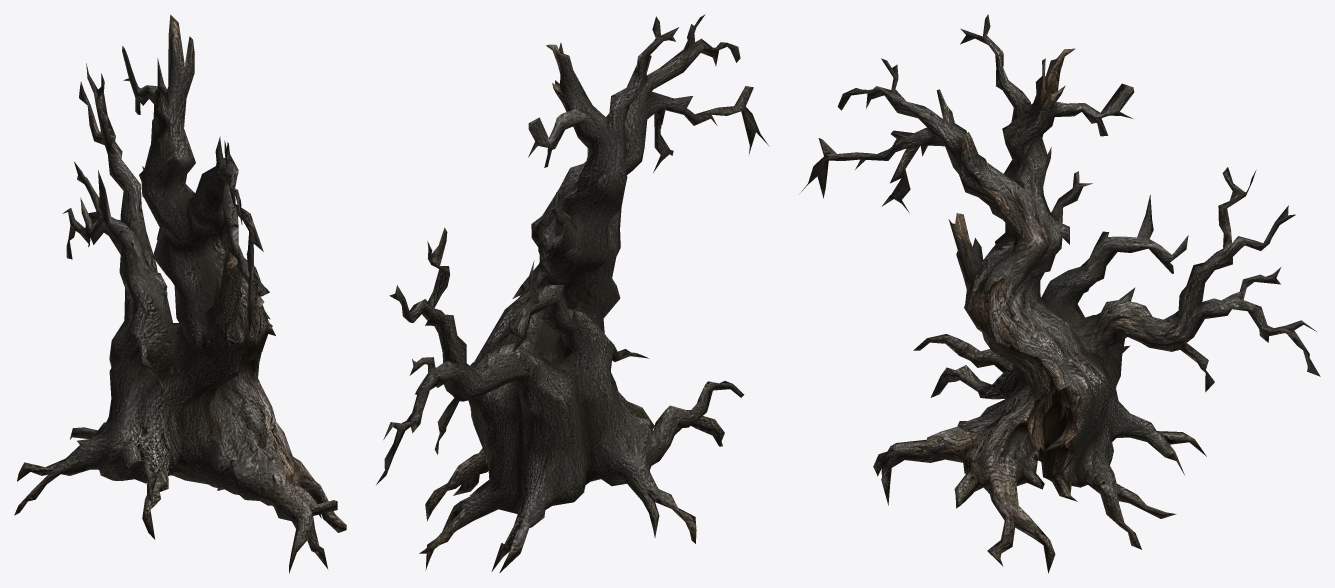
File: tree-dead.glb
3 views of the same model, side by side, from view 1: azimuth 30°, elevation 25°; view 2: azimuth 150°, elevation 25°; view 3: azimuth 270°, elevation 25° (orthographic). The views are drawn at different scales.
Bounding box in the file's own units: 0.5666 × 1 × 0.9982.
Materials: 1 (1 with a texture image).
